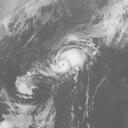cyclone: (45, 38, 96, 82)
